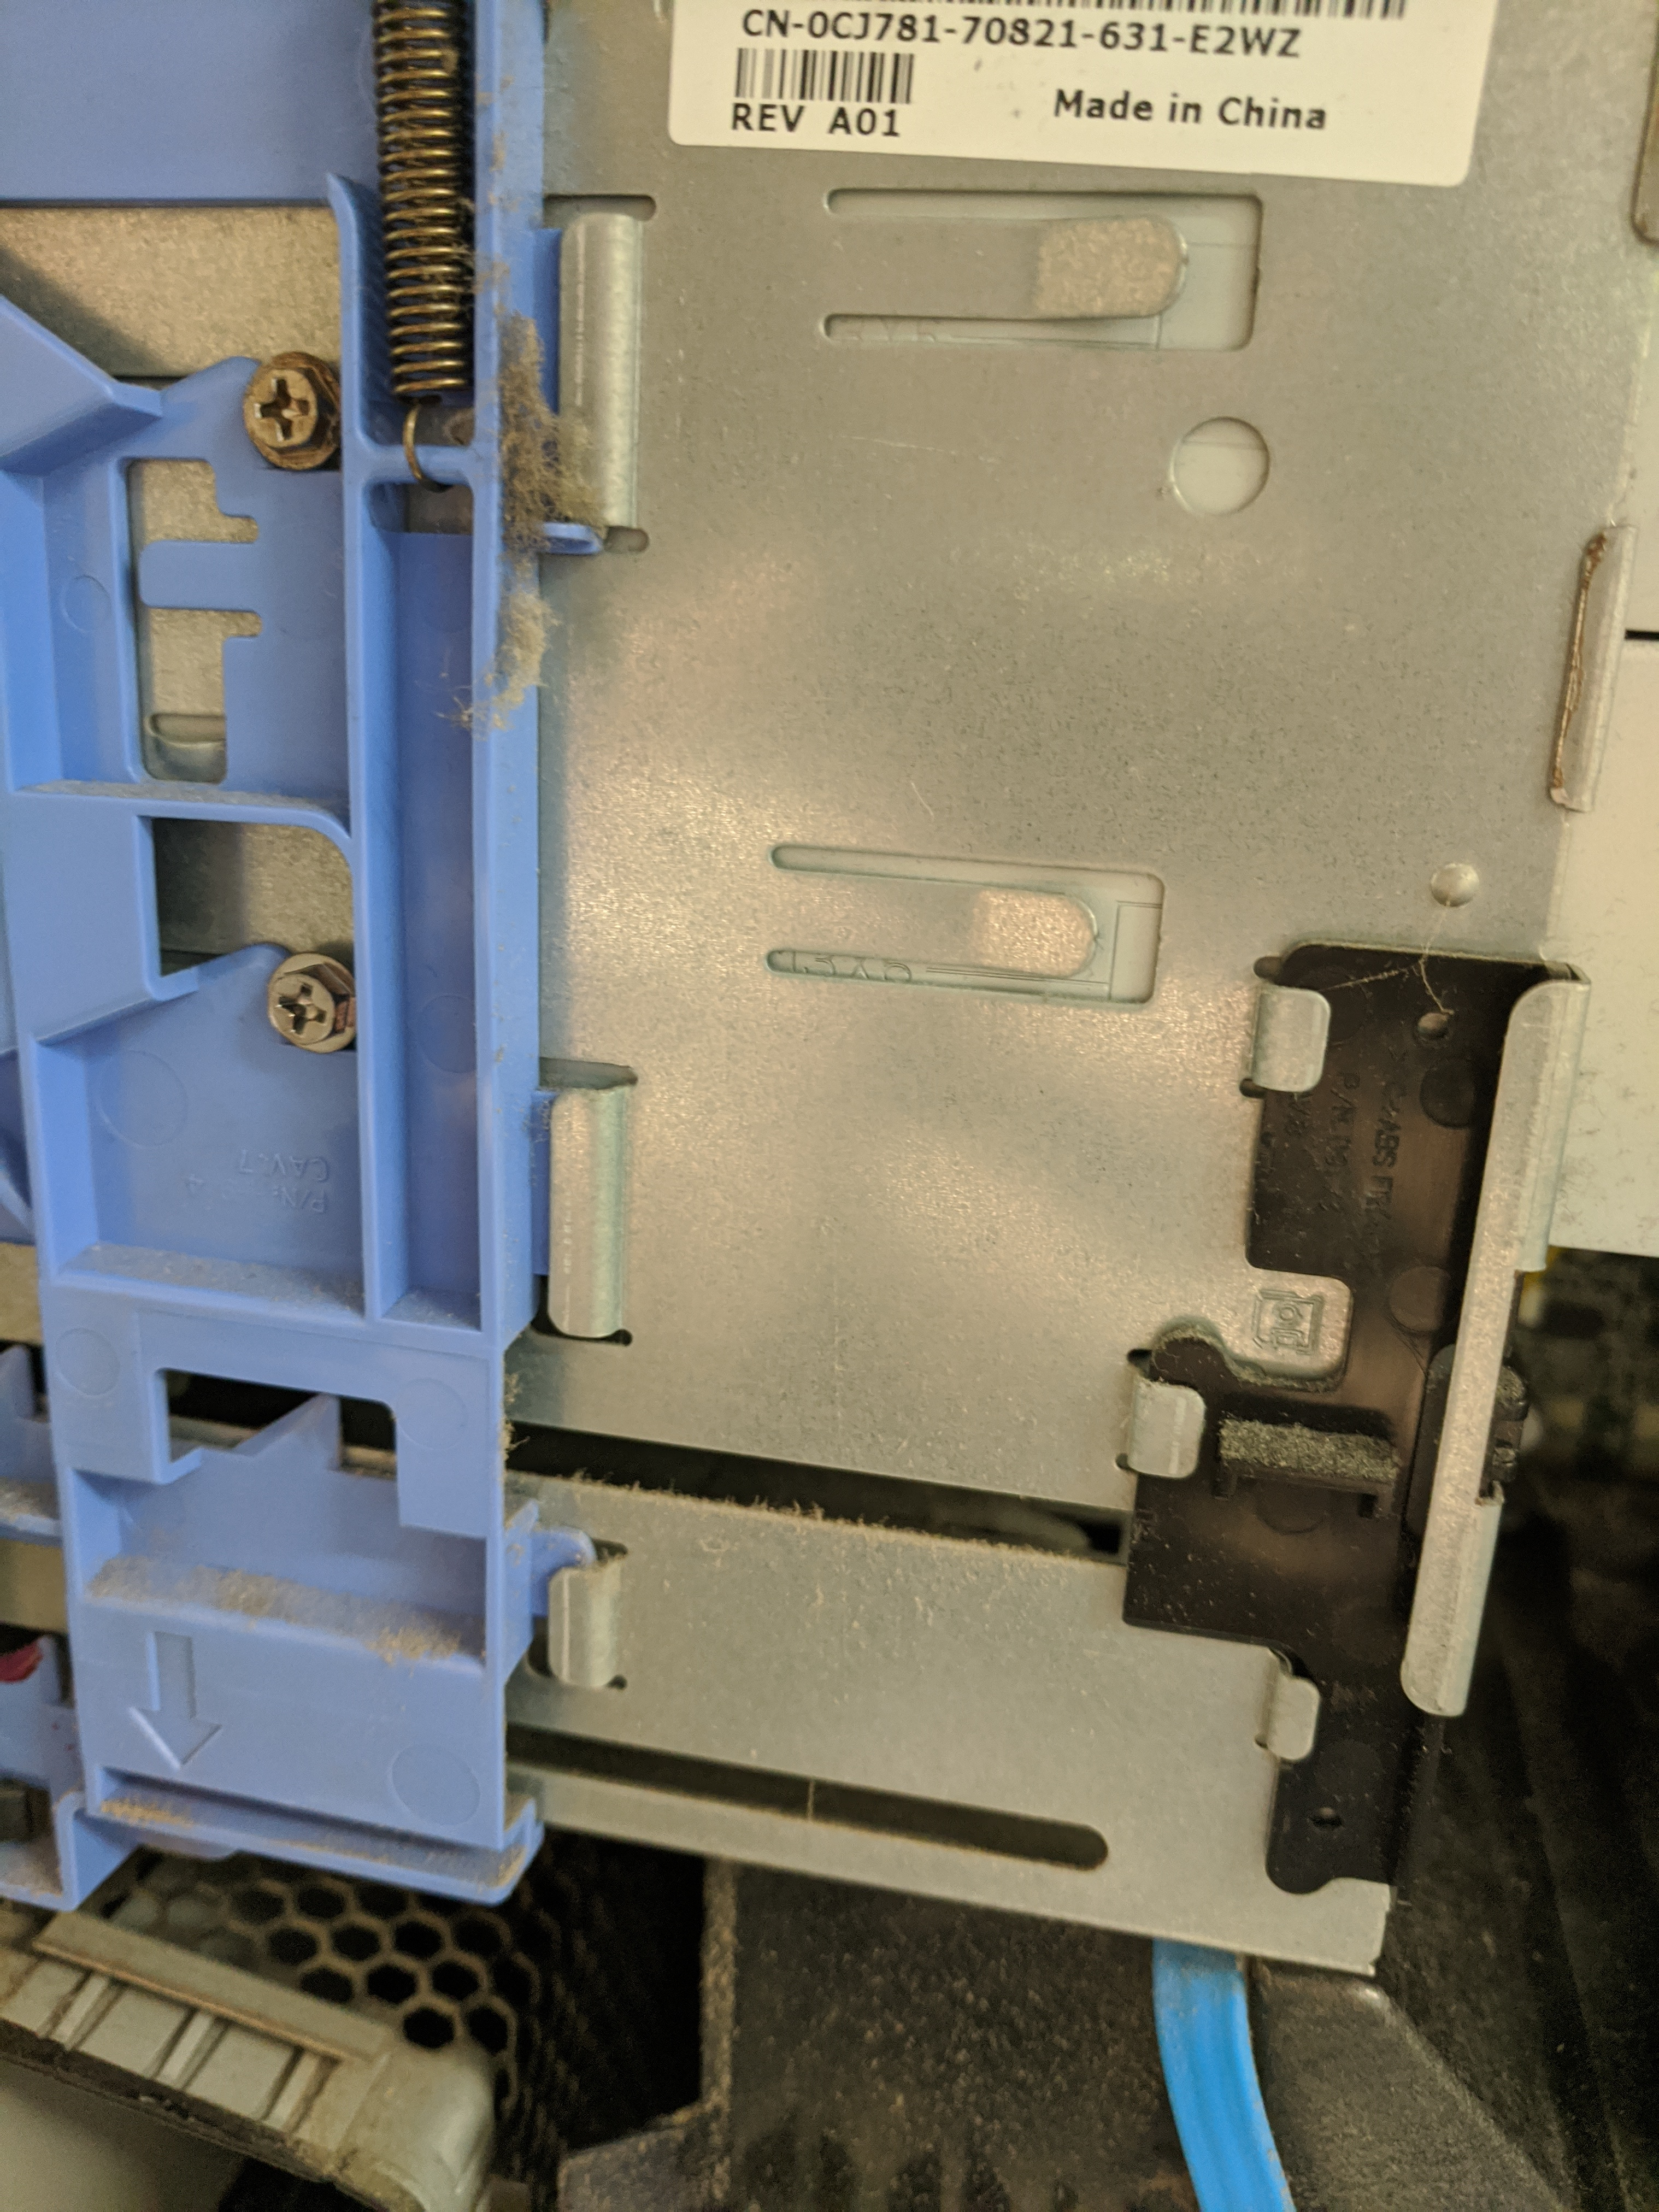cross_recessed_screw: (237, 355, 336, 453), (258, 951, 343, 1062)
